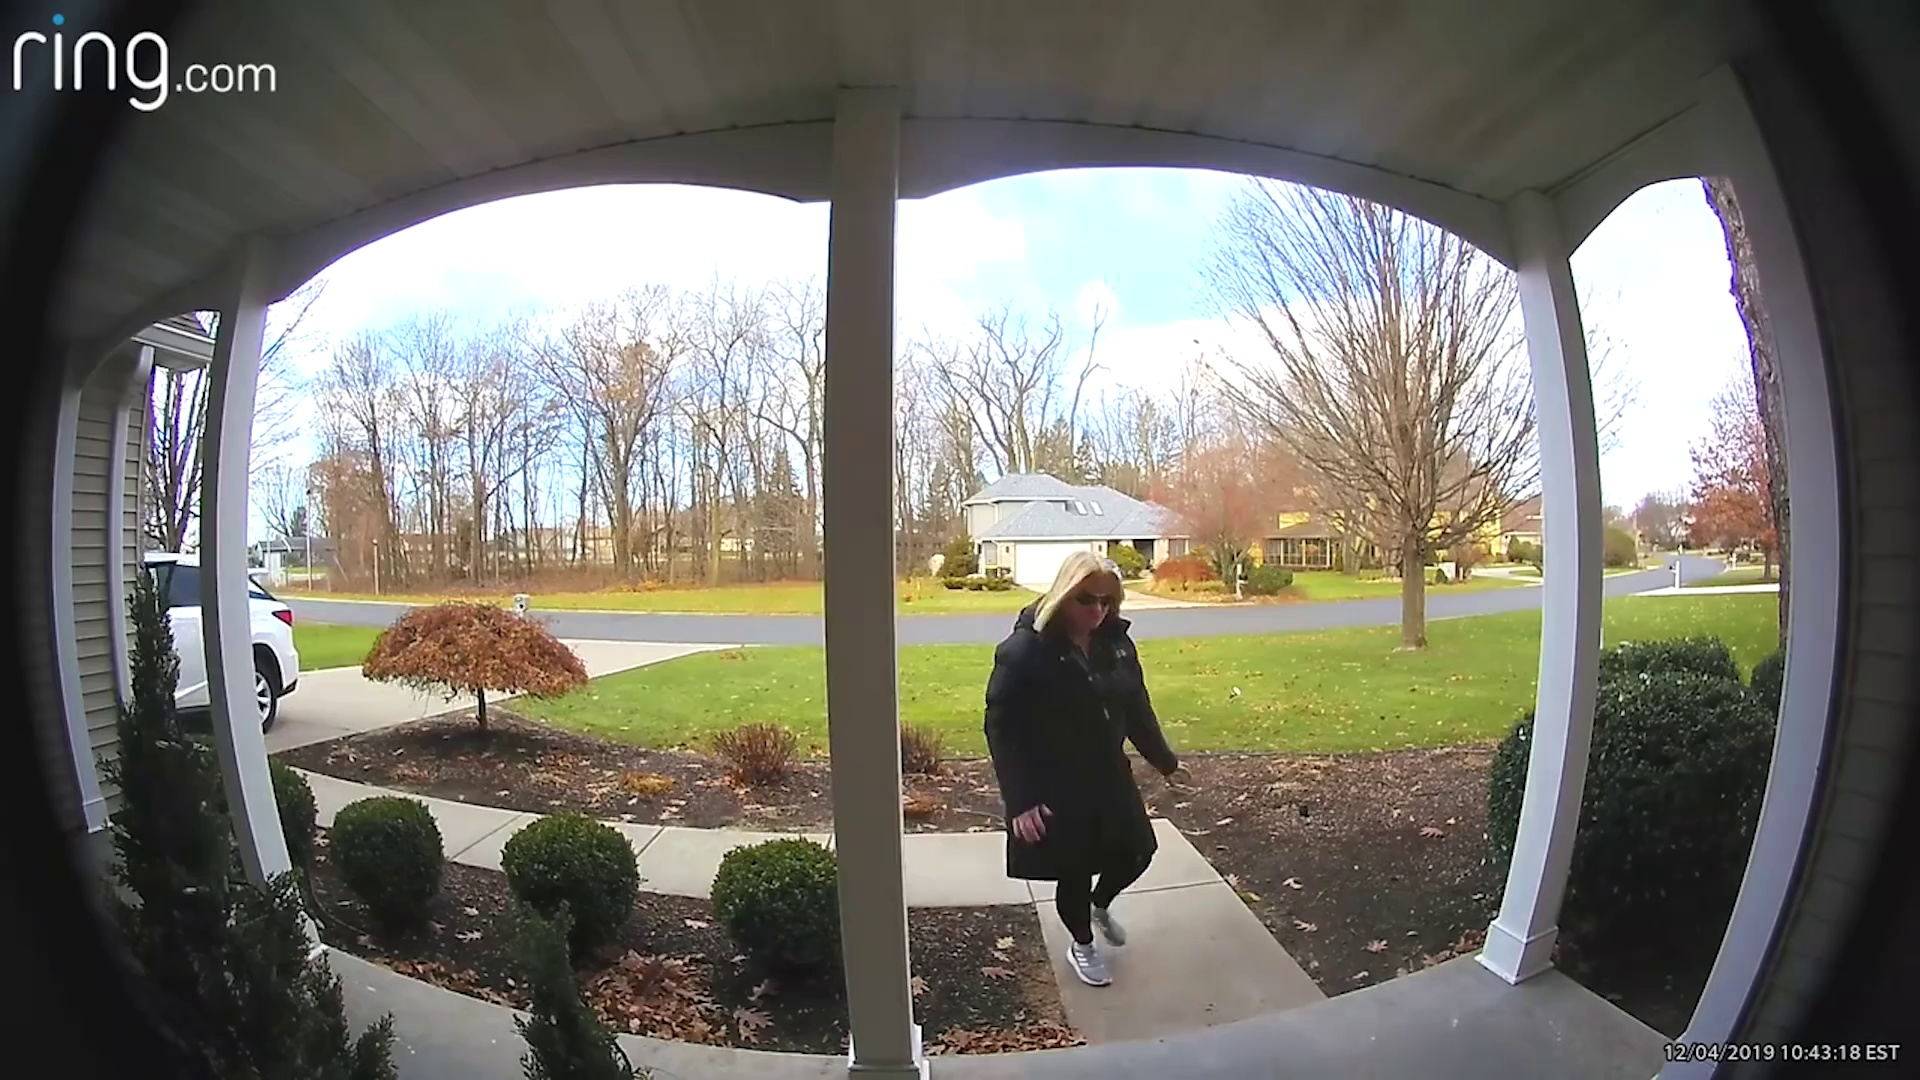face: (1068, 581, 1116, 630)
